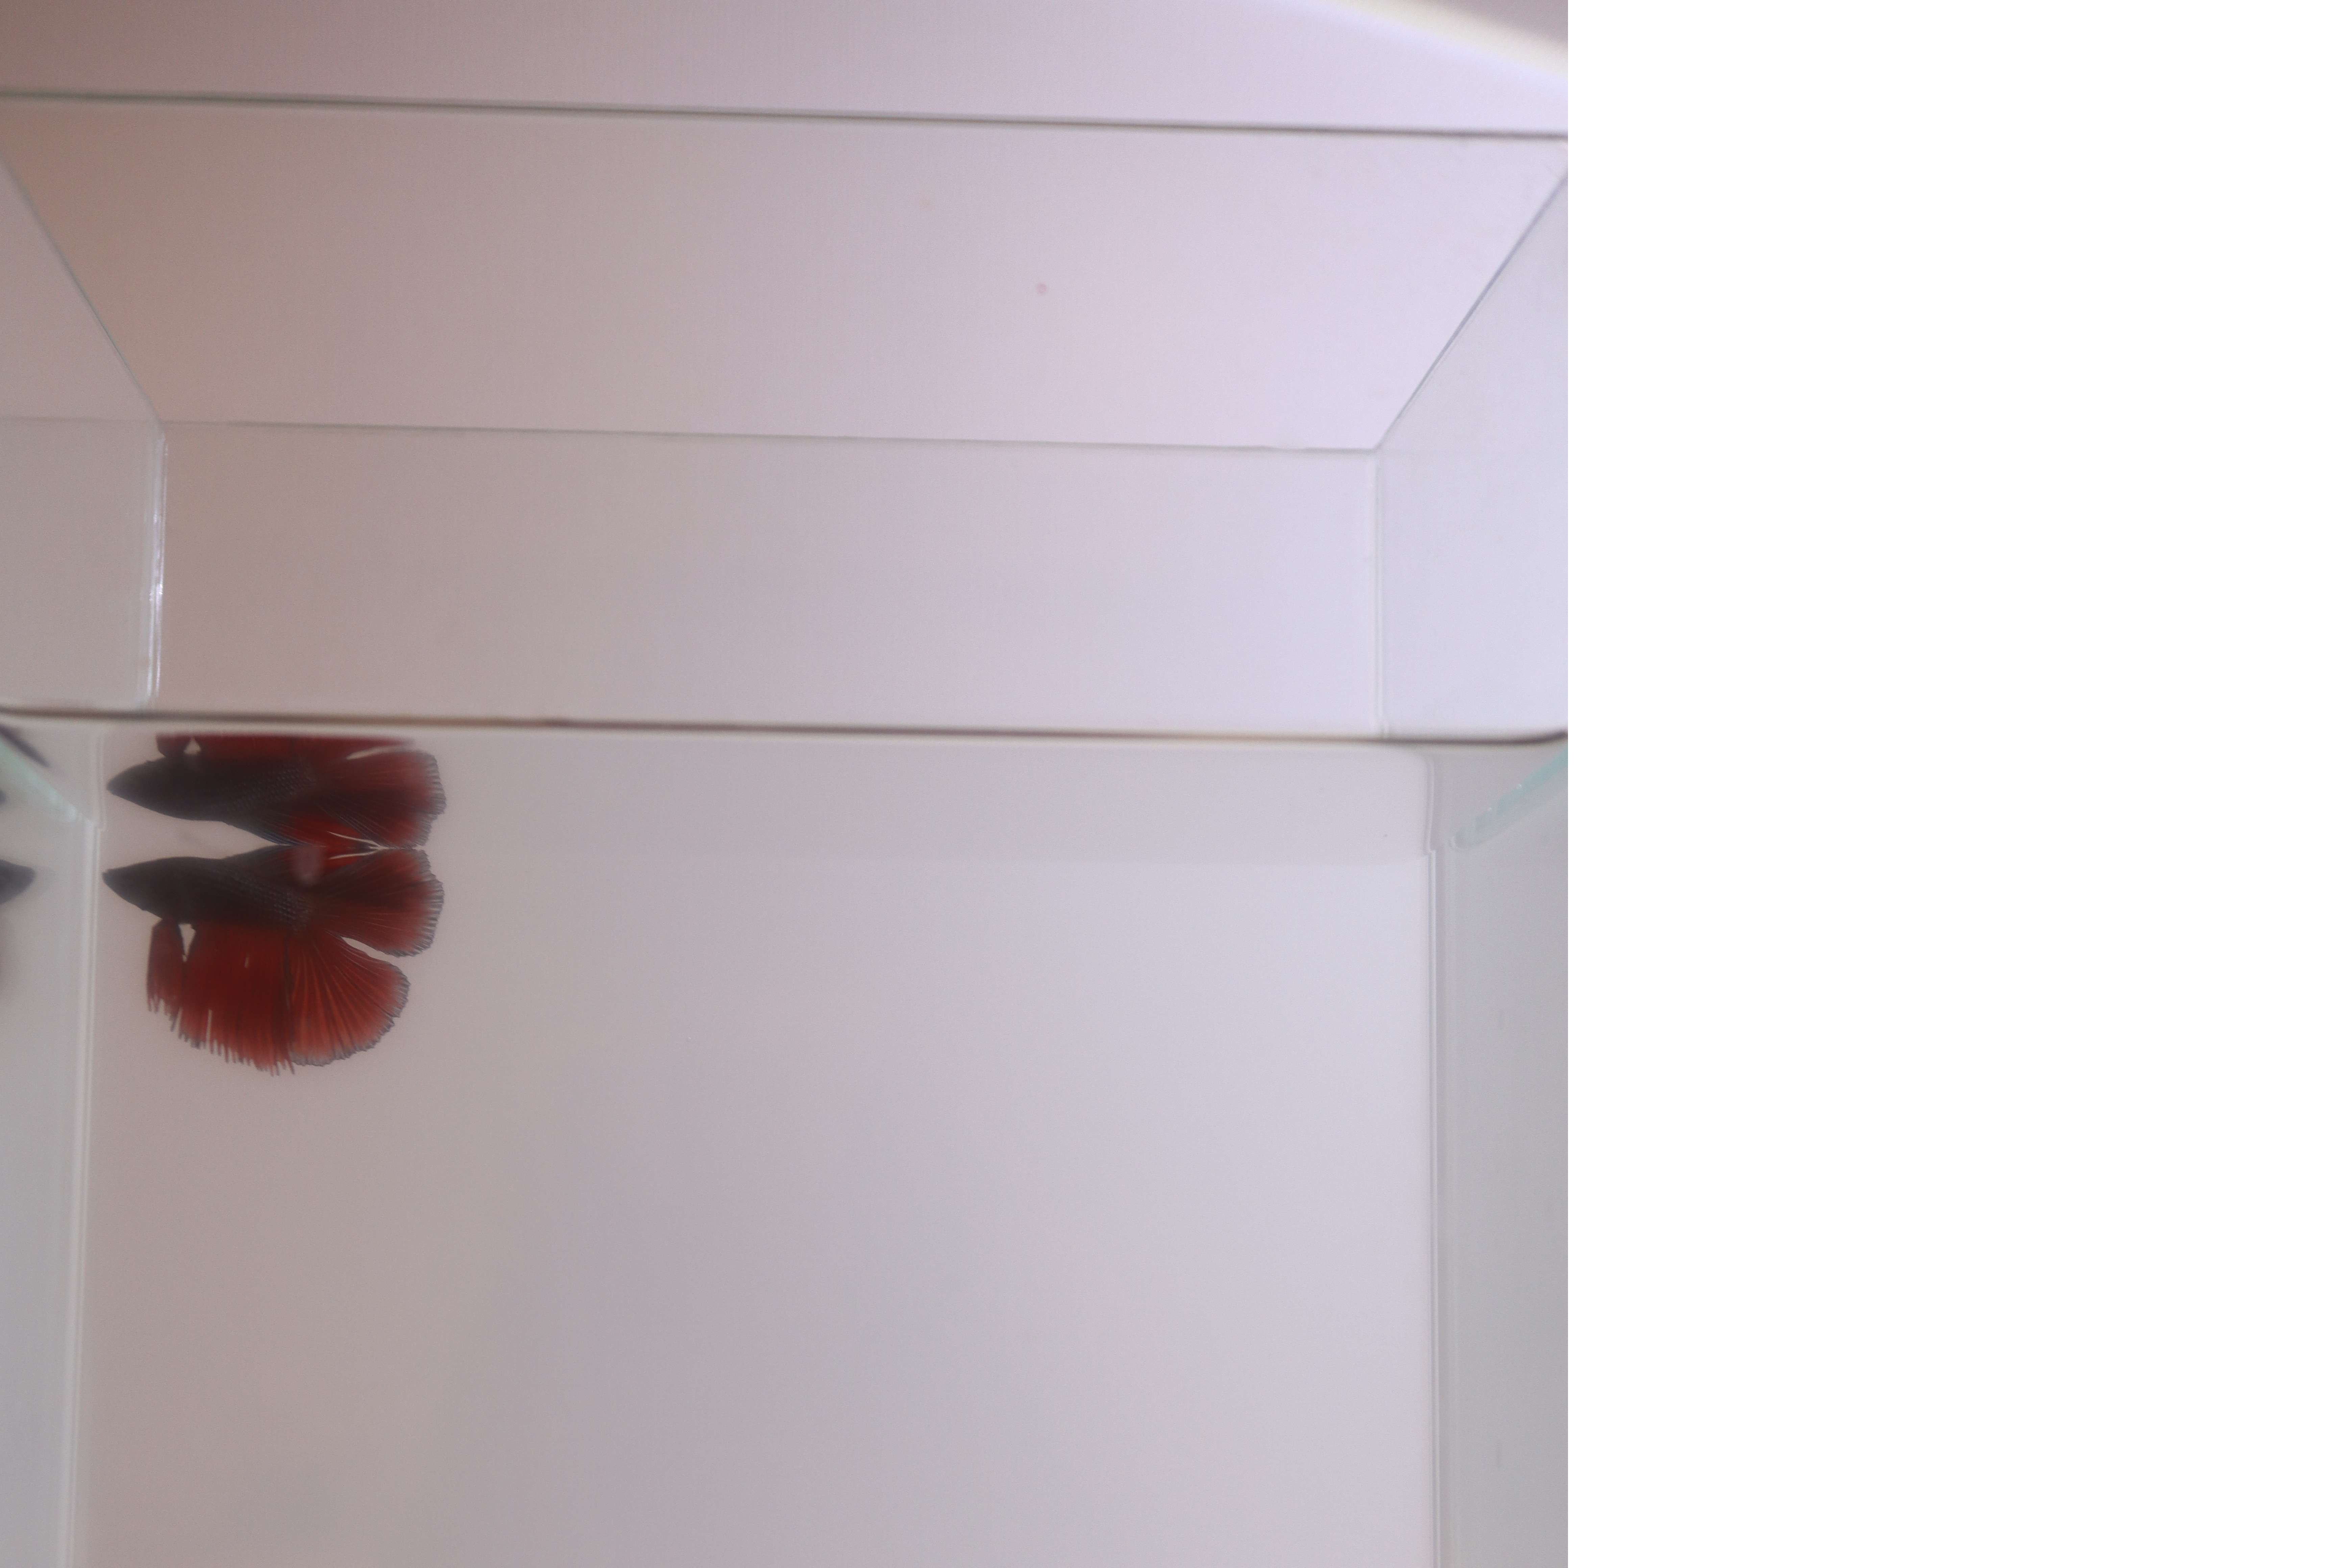fish: (107, 845, 452, 1066)
